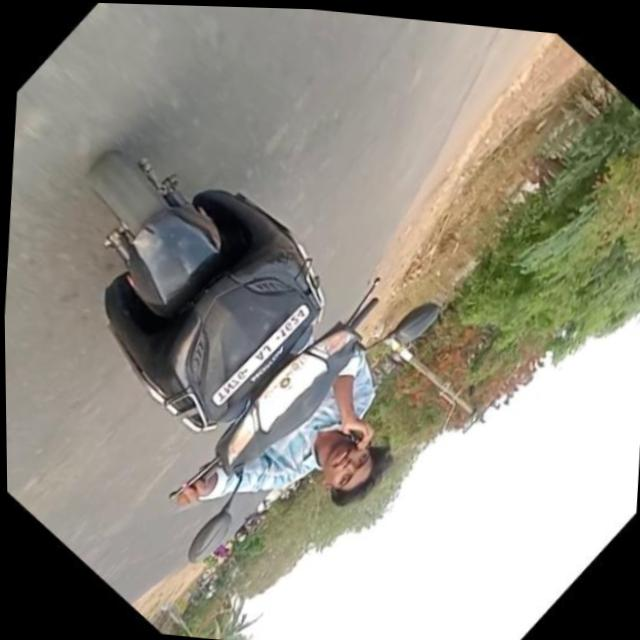USING_MOBILE: (299, 346, 410, 460)
